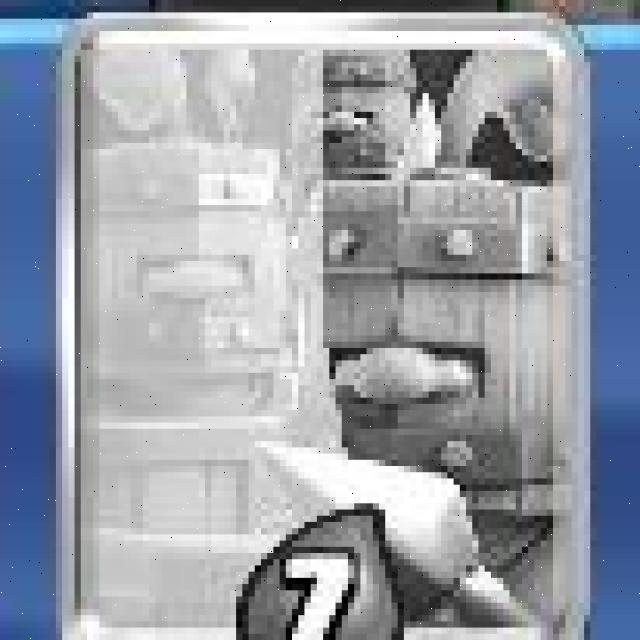Royal_Recruits: (53, 17, 590, 640)
